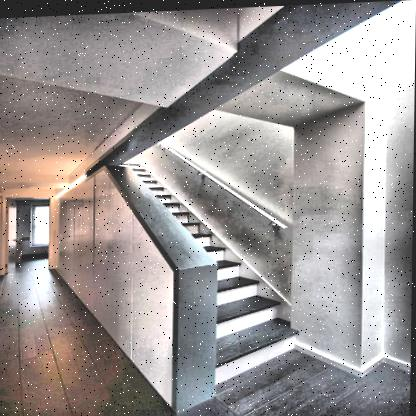stair: (114, 150, 298, 385)
